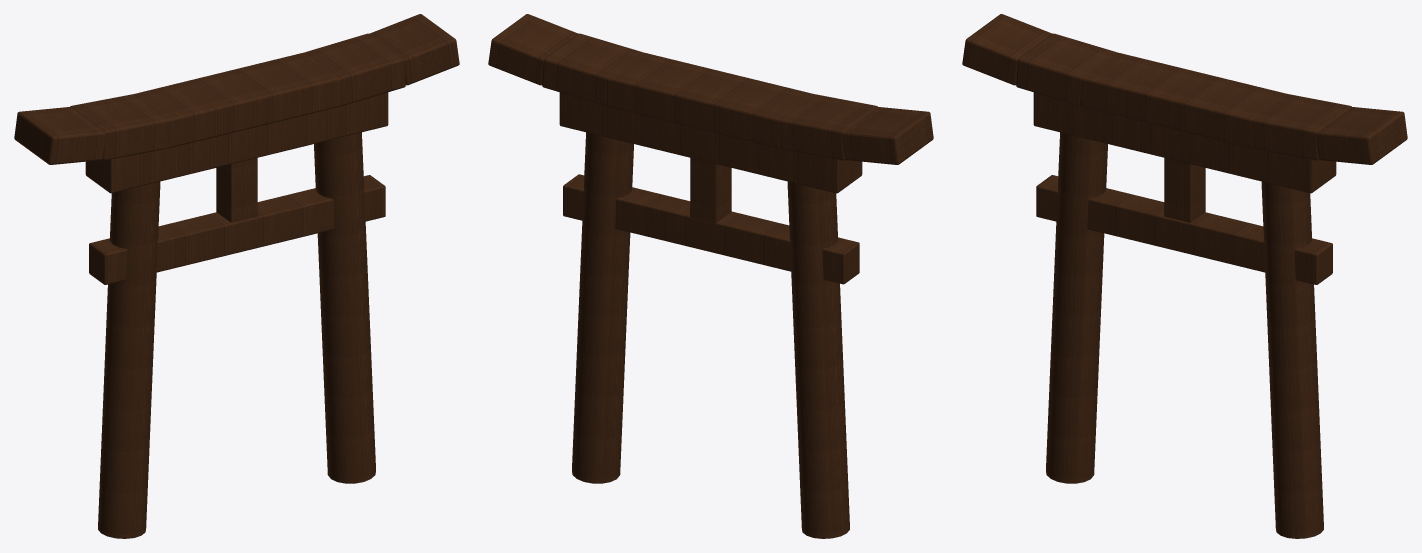
Rendered from torii-gate.glb.
3 views of the same model, side by side, from view 1: azimuth 30°, elevation 25°; view 2: azimuth 150°, elevation 25°; view 3: azimuth 330°, elevation 25° (orthographic).
Visible parts, largest first — view 1: left_pillar, right_pillar, kasagi_centre, nuki_tie_beam, upper_lintel, kasagi_right_inner, kasagi_left_tip, kasagi_left_inner, kasagi_right_tip, central_strut; view 2: left_pillar, right_pillar, kasagi_centre, nuki_tie_beam, upper_lintel, kasagi_right_inner, kasagi_left_tip, kasagi_left_inner, kasagi_right_tip, central_strut; view 3: right_pillar, left_pillar, kasagi_centre, nuki_tie_beam, upper_lintel, kasagi_left_inner, kasagi_right_tip, kasagi_right_inner, kasagi_left_tip, central_strut.
Part boxes in pixels (x1,y1,x2,y2): left_pillar: (98,181,160,538); right_pillar: (314,132,375,483); kasagi_centre: (133,52,341,148); nuki_tie_beam: (89,175,385,284); upper_lintel: (85,92,388,193); kasagi_right_inner: (306,33,405,105); kasagi_left_tip: (14,107,105,164); kasagi_left_inner: (70,94,168,160); kasagi_right_tip: (369,14,459,85); central_strut: (216,158,257,222); left_pillar: (787,181,849,538); right_pillar: (572,132,633,483); kasagi_centre: (606,52,814,148); nuki_tie_beam: (563,174,859,284); upper_lintel: (559,92,862,193); kasagi_right_inner: (542,33,641,105); kasagi_left_tip: (842,107,933,164); kasagi_left_inner: (779,94,877,160); kasagi_right_tip: (488,14,578,85); central_strut: (690,158,731,223); right_pillar: (1261,181,1323,538); left_pillar: (1046,132,1107,483); kasagi_centre: (1080,52,1288,148); nuki_tie_beam: (1036,175,1332,284); upper_lintel: (1033,92,1336,193); kasagi_left_inner: (1016,33,1115,105); kasagi_right_tip: (1316,107,1407,164); kasagi_right_inner: (1253,94,1351,160); kasagi_left_tip: (962,14,1052,85); central_strut: (1164,158,1205,222).
Bounding box in the file's own units: 2.63 × 2.61 × 0.4.
1 material, 1 textured.
